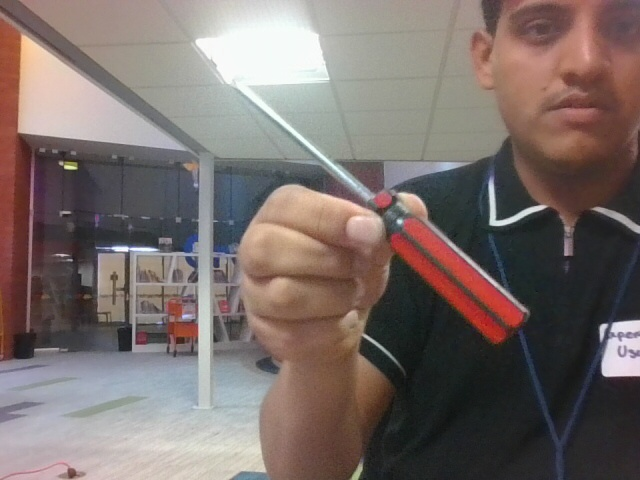destornillador: (220, 64, 526, 342)
